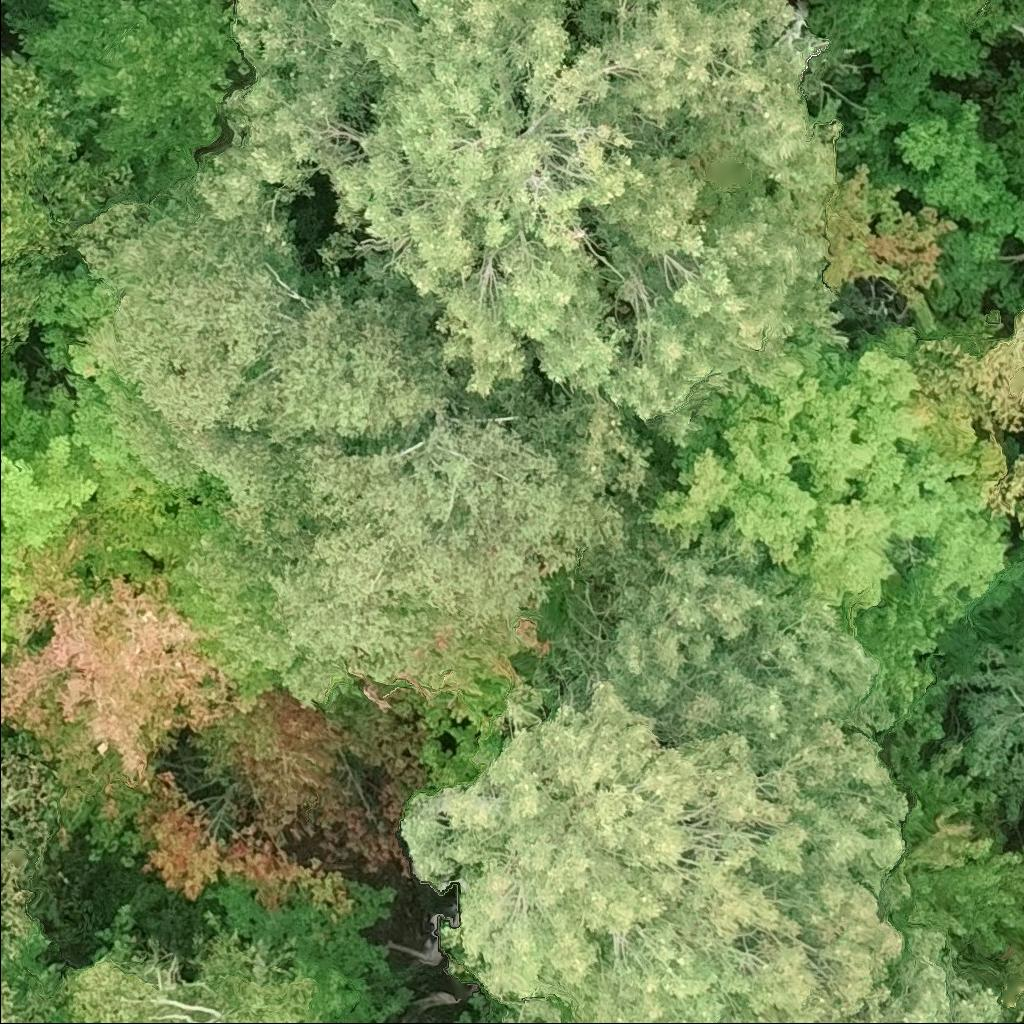crown: (75, 180, 672, 707), (394, 528, 1021, 1023), (192, 0, 852, 451), (646, 323, 1017, 641), (0, 524, 234, 866), (129, 687, 429, 917), (0, 48, 125, 360), (886, 720, 1023, 956), (0, 356, 99, 656), (52, 932, 334, 1023), (0, 729, 62, 960), (0, 971, 30, 1023), (1015, 987, 1023, 1023)
